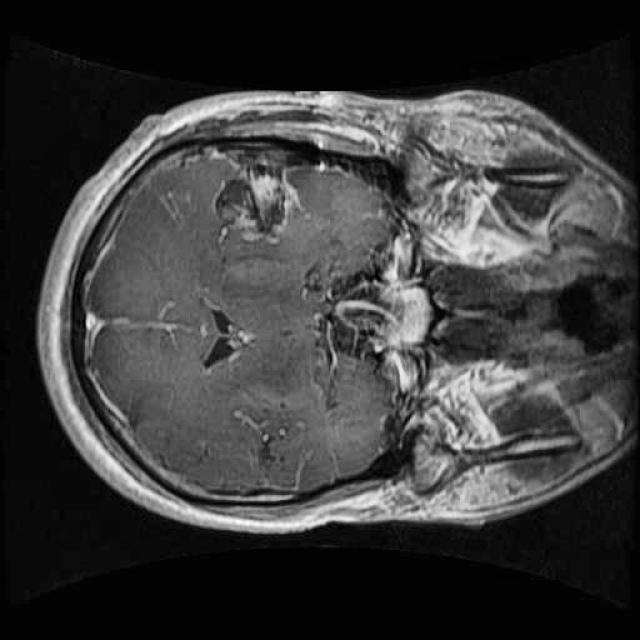Tumor: (195, 148, 324, 258)
